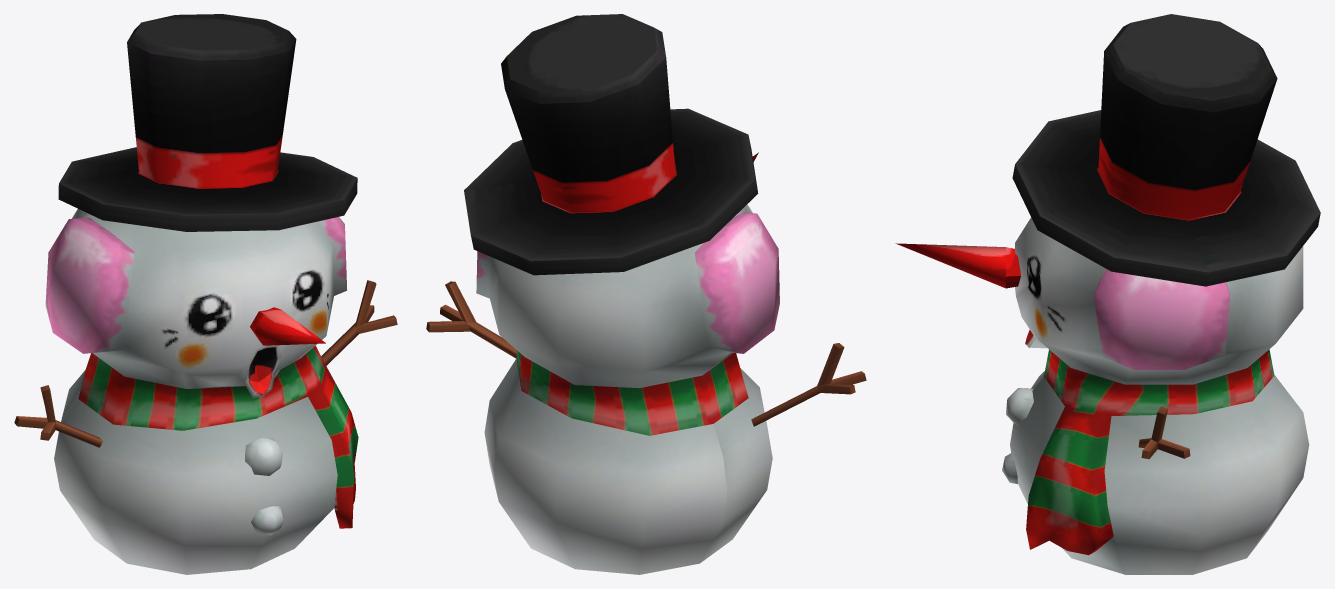
File: furni_0200219.FBX
3 views of the same model, side by side, from view 1: azimuth 30°, elevation 25°; view 2: azimuth 150°, elevation 25°; view 3: azimuth 270°, elevation 25° (orthographic). The views are drawn at different scales.
Visible parts, largest first — view 1: furni_0200219; view 2: furni_0200219; view 3: furni_0200219.
Boxes of the visible parts, x1,y1,x2,y2 form: furni_0200219: (14, 14, 397, 574); furni_0200219: (426, 14, 866, 574); furni_0200219: (895, 14, 1320, 574).
Size of the model in its own units: 71.45 by 85.69 by 65.14.
1 material, 1 textured.
